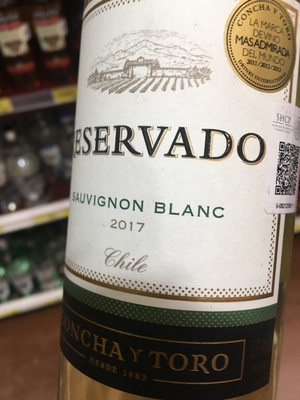reservado sauvignon blanc: (55, 1, 297, 400)
